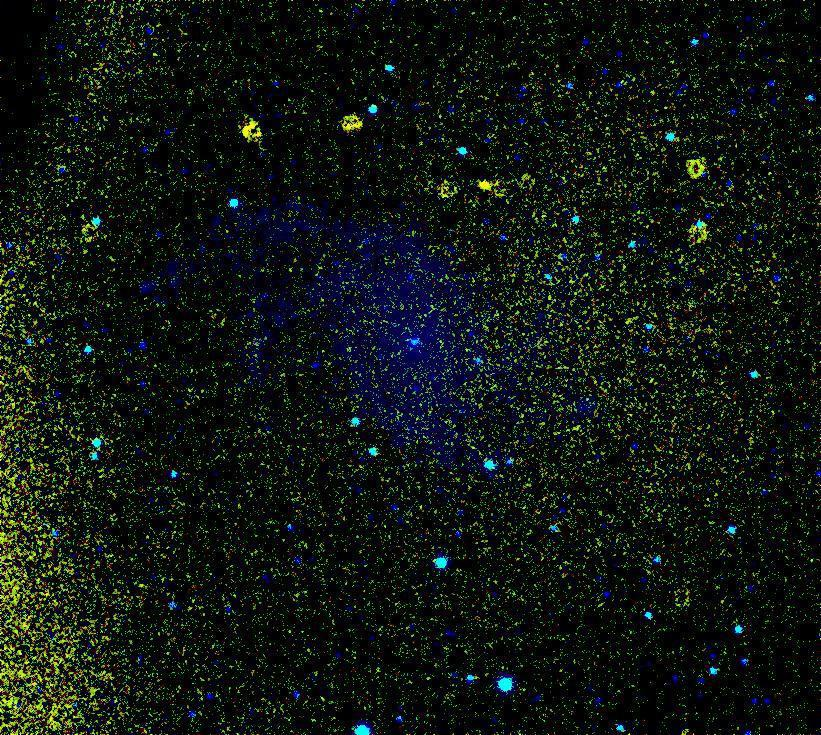star: (469, 170, 499, 200)
